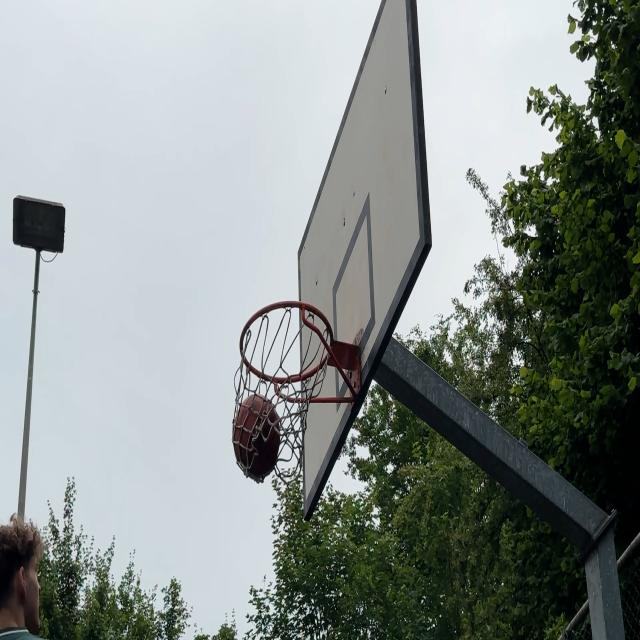Goal: (235, 395, 281, 479)
